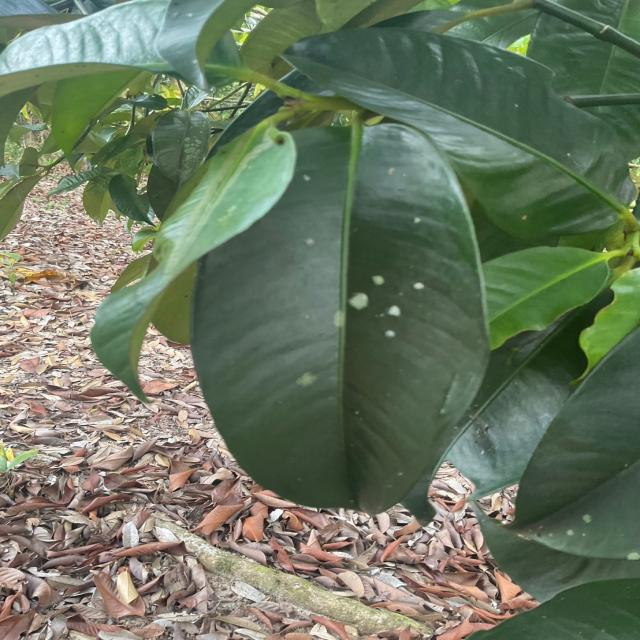Leaf Spot: (330, 273, 450, 354), (553, 502, 622, 558), (284, 361, 338, 395), (299, 233, 334, 255), (406, 210, 426, 226), (298, 165, 315, 178)
